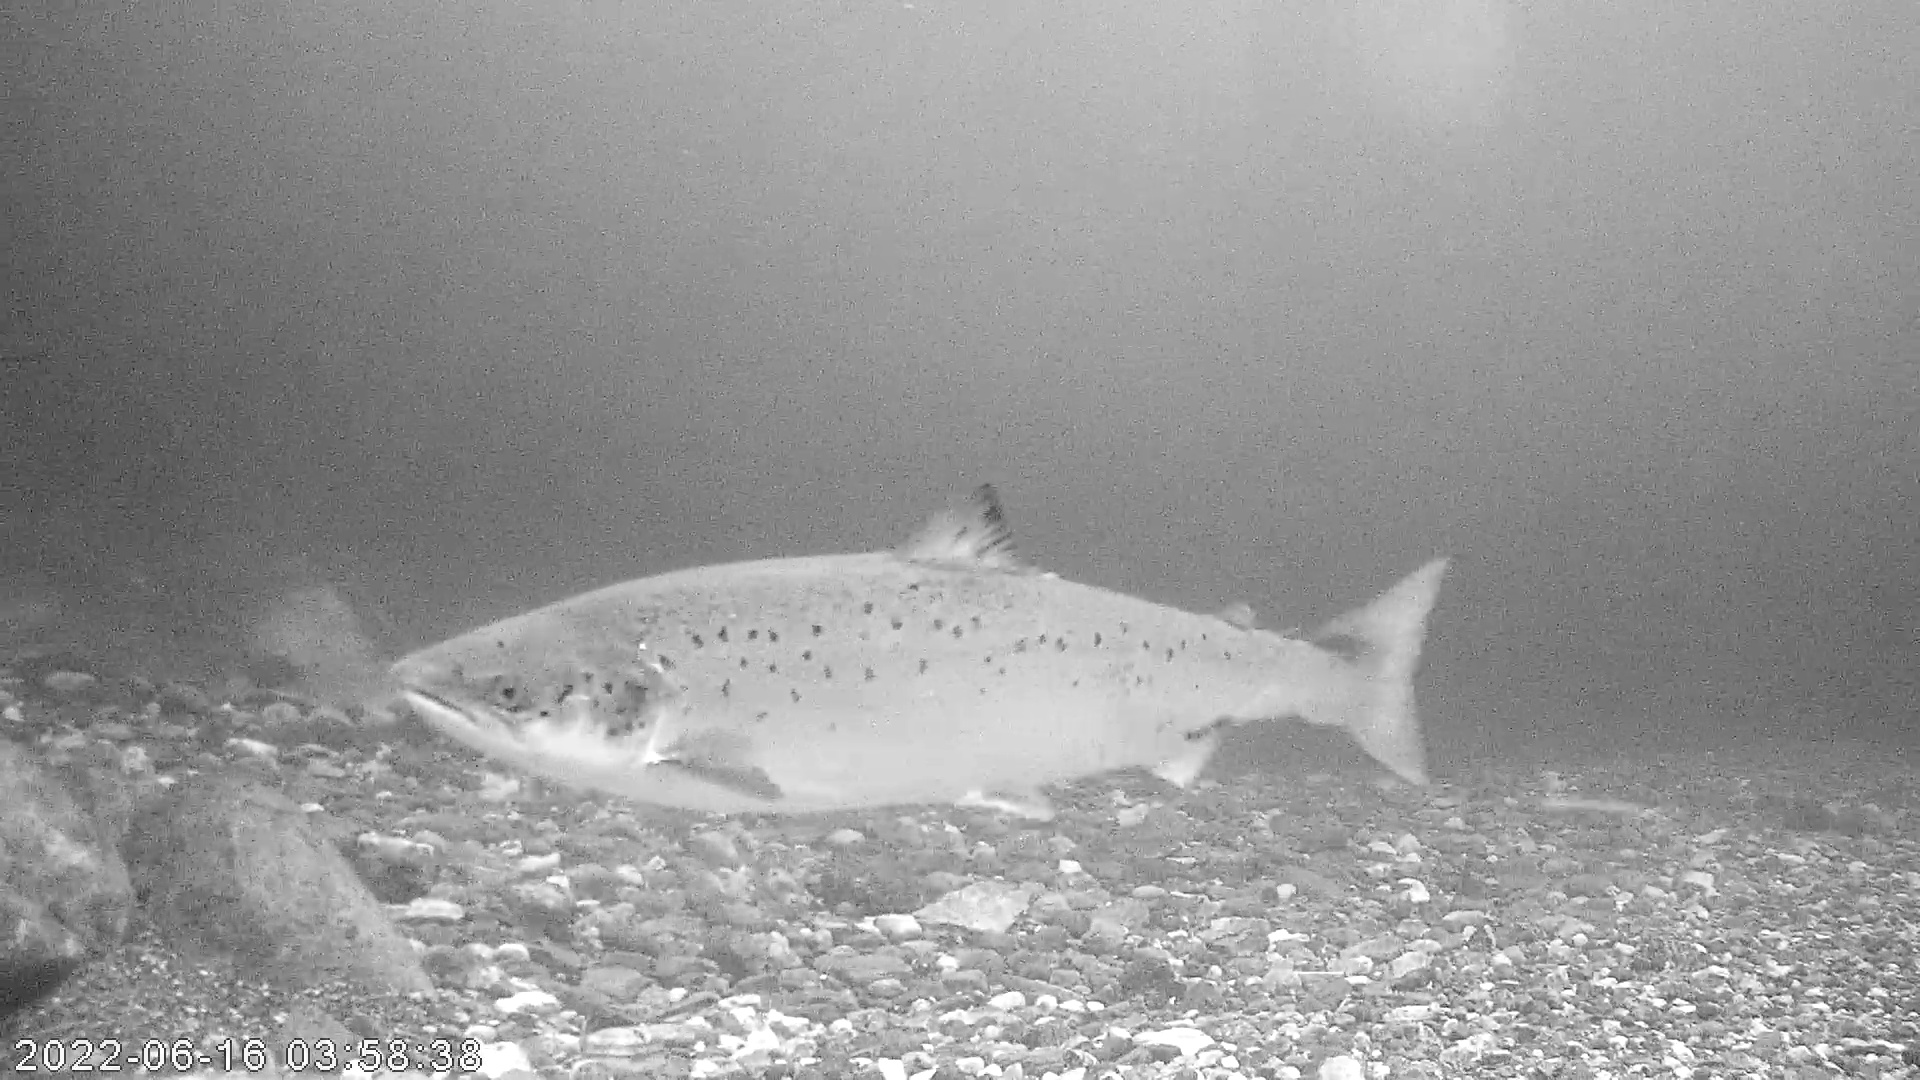salmon: (386, 480, 1455, 825)
